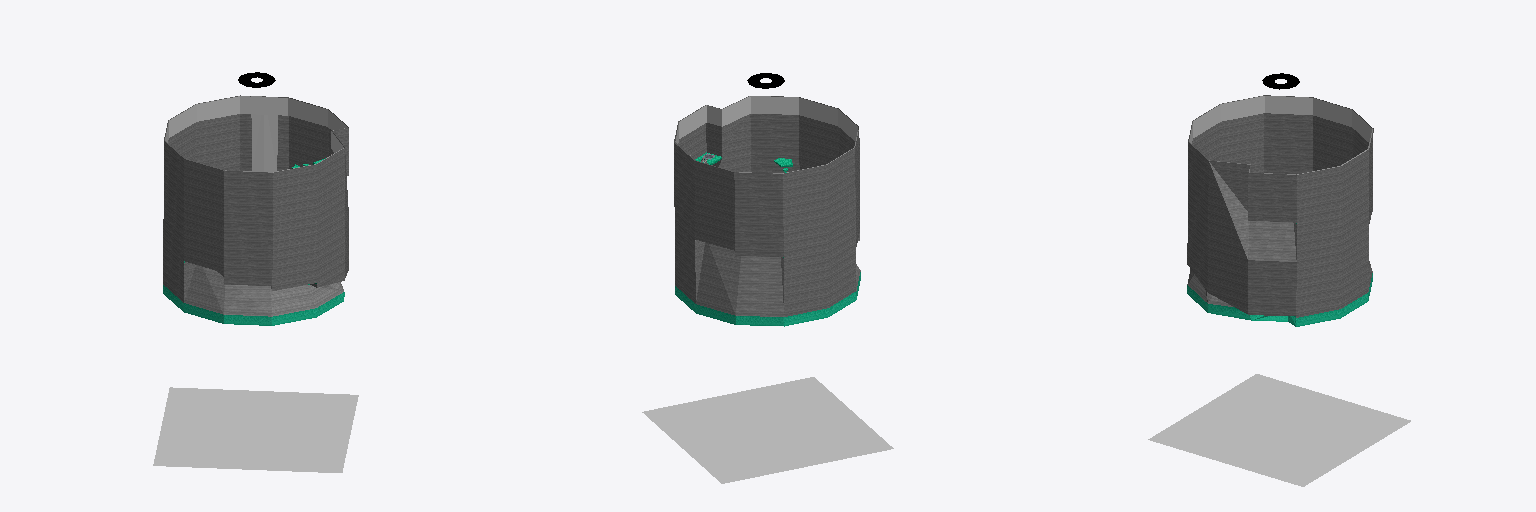
3 views of the same model, side by side, from view 1: azimuth 30°, elevation 25°; view 2: azimuth 150°, elevation 25°; view 3: azimuth 270°, elevation 25° (orthographic).
Visible parts, largest first — view 1: 000_51ED067A_c.bmp, 047_273462A4_c.bmp, 042_70E8CDE_c.bmp, 002_68E1A622_c.bmp, 046_273462A4_c.bmp; view 2: 000_51ED067A_c.bmp, 047_273462A4_c.bmp, 042_70E8CDE_c.bmp, 002_68E1A622_c.bmp; view 3: 000_51ED067A_c.bmp, 047_273462A4_c.bmp, 042_70E8CDE_c.bmp, 002_68E1A622_c.bmp.
Boxes of the visible parts, <box> form: 000_51ED067A_c.bmp: <box>163,95,348,316</box>; 047_273462A4_c.bmp: <box>153,387,358,472</box>; 042_70E8CDE_c.bmp: <box>165,96,347,172</box>; 002_68E1A622_c.bmp: <box>163,285,344,325</box>; 046_273462A4_c.bmp: <box>251,96,277,171</box>; 000_51ED067A_c.bmp: <box>674,96,860,316</box>; 047_273462A4_c.bmp: <box>642,377,893,483</box>; 042_70E8CDE_c.bmp: <box>675,96,858,173</box>; 002_68E1A622_c.bmp: <box>675,272,860,326</box>; 000_51ED067A_c.bmp: <box>1187,95,1373,317</box>; 047_273462A4_c.bmp: <box>1148,374,1410,486</box>; 042_70E8CDE_c.bmp: <box>1189,96,1372,174</box>; 002_68E1A622_c.bmp: <box>1187,273,1372,326</box>.
Bounding box in the file's own units: 8.56 × 12.51 × 8.56.
14 materials, 9 textured.